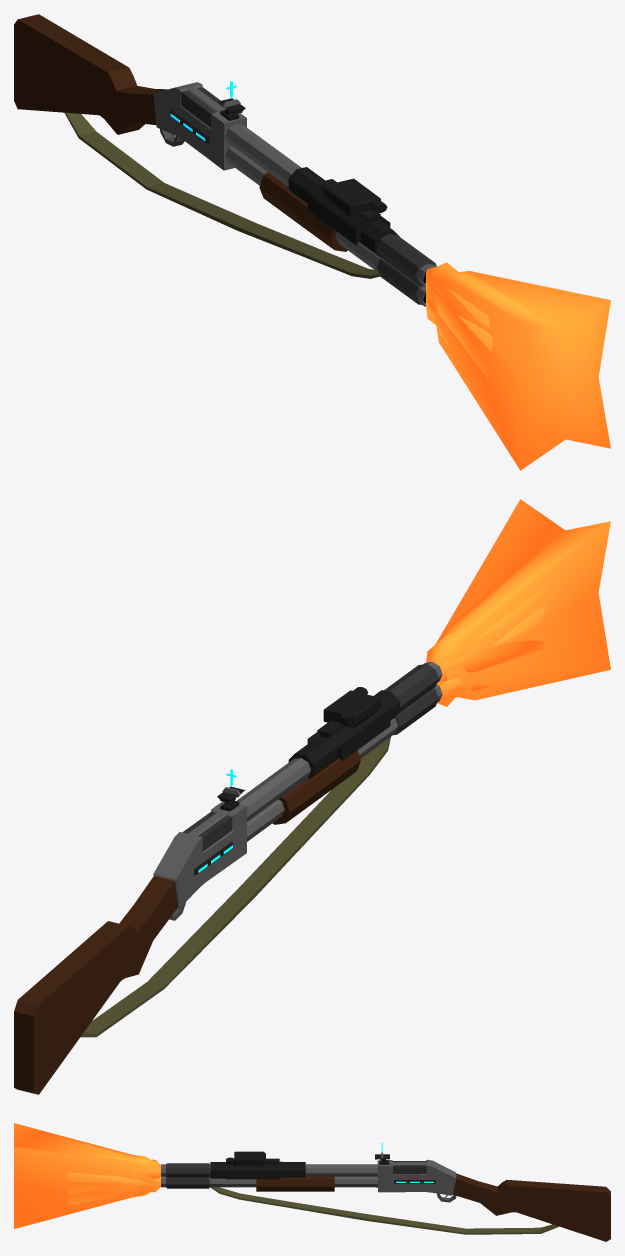
File: PraedatumTrenchSweeper.glb
3 renders of one model, top to bottom at view 1: azimuth 30°, elevation 25°; view 2: azimuth 150°, elevation 25°; view 3: azimuth 270°, elevation 25°, orthographic. The views are drawn at different scales.
Visible parts, largest first — view 1: MuzzleFlashBoth1, MainBody, Sling, TopBarrel, BottomBarrel, RailCover, Pump, MuzzleFlashTop1, PEQ15, RailSystem.001; view 2: MuzzleFlashBoth1, MainBody, Sling, TopBarrel, MuzzleFlashTop1, BottomBarrel, Pump, RailCover, PEQ15, MuzzleFlashBottom1, RailSystem.001; view 3: MuzzleFlashBoth1, MainBody, Sling, TopBarrel, BottomBarrel, Pump, MuzzleFlashBottom1, RailCover, MuzzleFlashTop1, RailSystem.002, PEQ15.
Boxes of the visible parts, left/top/right/bottom form: MuzzleFlashBoth1: left=426, top=262, right=610, bottom=470; MainBody: left=14, top=14, right=246, bottom=170; Sling: left=64, top=112, right=379, bottom=278; TopBarrel: left=225, top=123, right=436, bottom=286; BottomBarrel: left=225, top=146, right=425, bottom=306; RailCover: left=288, top=167, right=399, bottom=257; Pump: left=259, top=172, right=347, bottom=251; MuzzleFlashTop1: left=426, top=273, right=490, bottom=377; PEQ15: left=324, top=178, right=380, bottom=216; RailSystem.001: left=307, top=194, right=360, bottom=245; MuzzleFlashBoth1: left=426, top=499, right=610, bottom=706; MainBody: left=14, top=801, right=247, bottom=1094; Sling: left=80, top=737, right=390, bottom=1037; TopBarrel: left=236, top=661, right=442, bottom=821; MuzzleFlashTop1: left=440, top=587, right=545, bottom=681; BottomBarrel: left=247, top=684, right=442, bottom=841; Pump: left=272, top=750, right=360, bottom=824; RailCover: left=288, top=690, right=399, bottom=778; PEQ15: left=323, top=690, right=380, bottom=728; MuzzleFlashBottom1: left=440, top=607, right=545, bottom=700; RailSystem.001: left=337, top=710, right=390, bottom=761; MuzzleFlashBoth1: left=14, top=1123, right=161, bottom=1228; MainBody: left=377, top=1159, right=610, bottom=1241; Sling: left=210, top=1187, right=558, bottom=1234; TopBarrel: left=161, top=1163, right=377, bottom=1177; BottomBarrel: left=161, top=1176, right=377, bottom=1188; Pump: left=256, top=1176, right=334, bottom=1191; MuzzleFlashBottom1: left=68, top=1172, right=160, bottom=1206; RailCover: left=210, top=1161, right=305, bottom=1178; MuzzleFlashTop1: left=68, top=1167, right=160, bottom=1195; RailSystem.002: left=226, top=1171, right=279, bottom=1179; PEQ15: left=234, top=1151, right=265, bottom=1166.
Bounding box in the file's own units: 0.5667 × 1.13 × 5.87.
